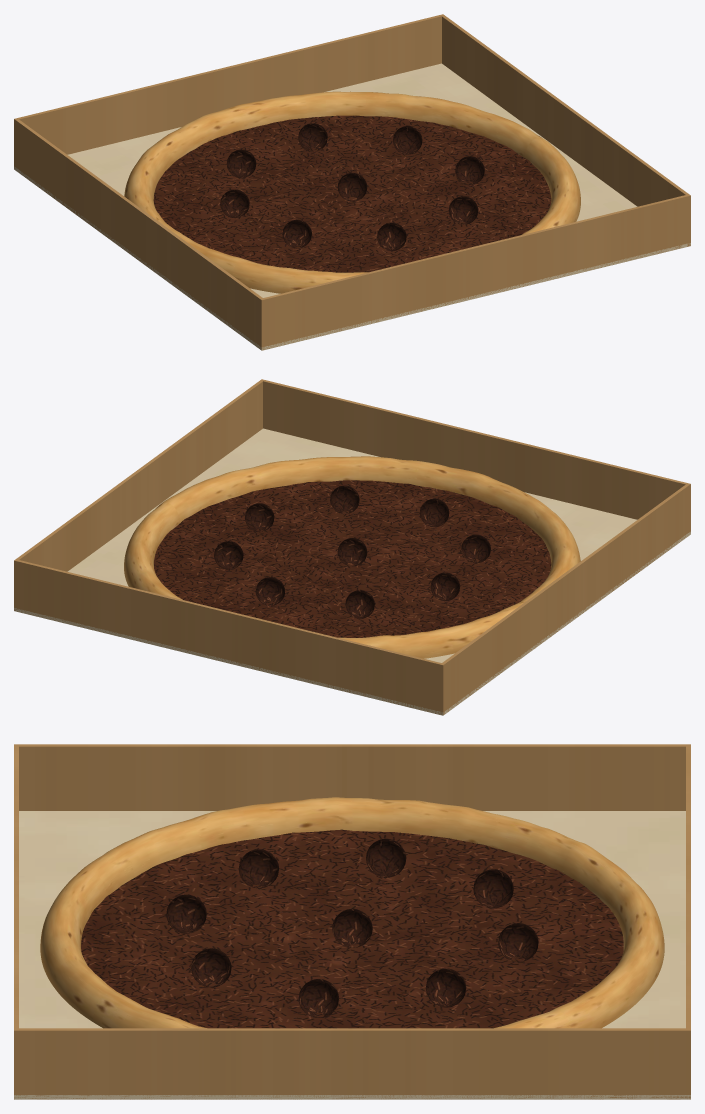
Rendered from pizza-caixa-brigadeiro.glb.
3 renders of one model, top to bottom at view 1: azimuth 30°, elevation 25°; view 2: azimuth 150°, elevation 25°; view 3: azimuth 270°, elevation 25°, orthographic. The views are drawn at different scales.
Parts seen in each view (by area): view 1: pizza-caixa-brigadeiro; view 2: pizza-caixa-brigadeiro; view 3: pizza-caixa-brigadeiro.
Part boxes in pixels (x1,y1,x2,y2): pizza-caixa-brigadeiro: (14,14,690,350); pizza-caixa-brigadeiro: (14,379,690,715); pizza-caixa-brigadeiro: (14,744,690,1099).
Bounding box in the file's own units: 0.4 × 0.045 × 0.4.
Materials: 5 (5 with a texture image).
